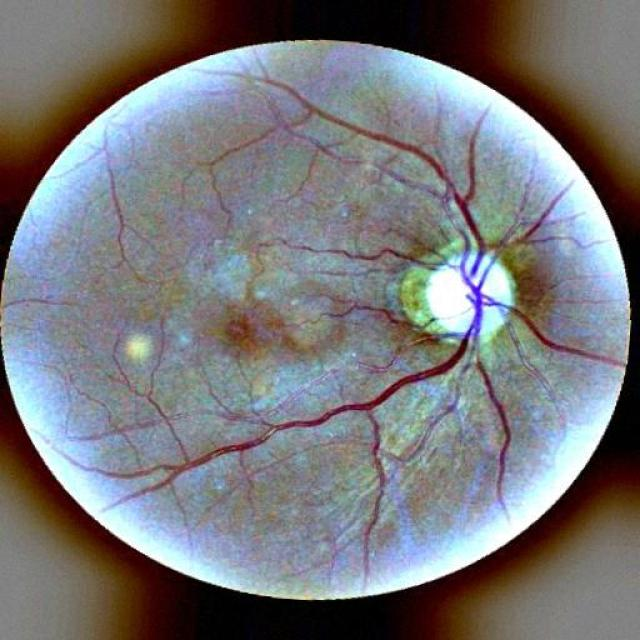Macula: (204, 287, 295, 374)
Nerves: (137, 83, 520, 493)
Optic Disk: (386, 246, 549, 370)
